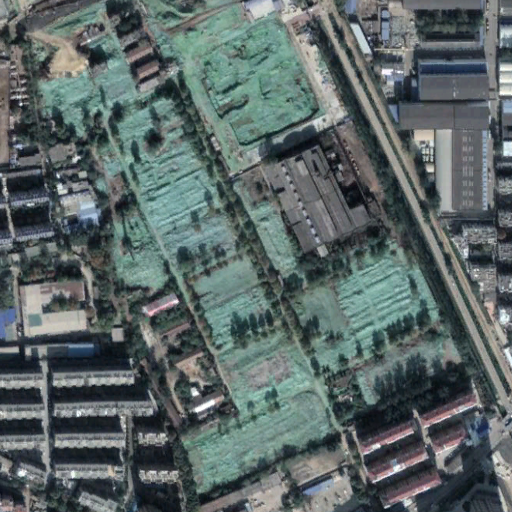cw: (29, 4, 479, 496)
